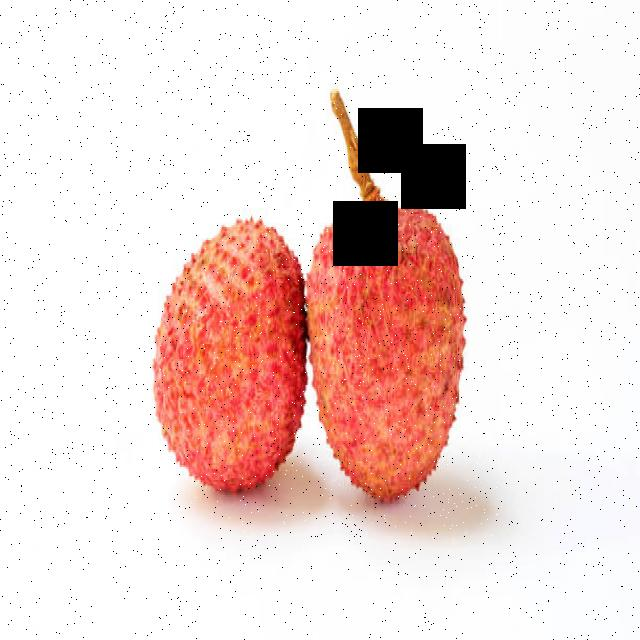lychee: (148, 204, 472, 505)
